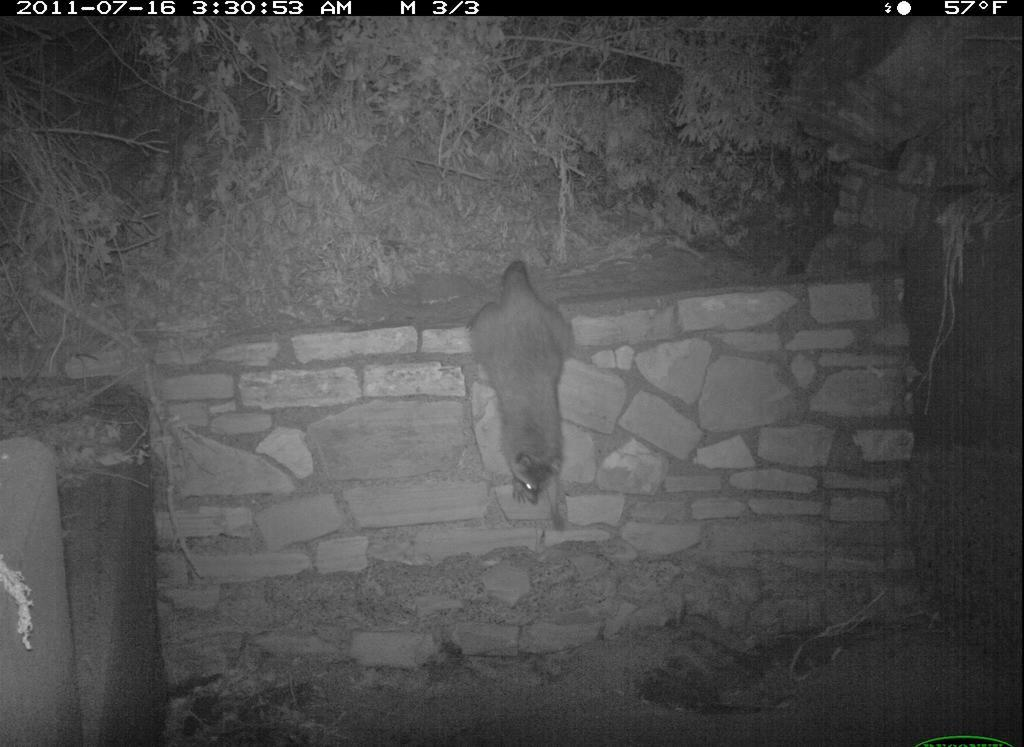raccoon: (461, 258, 601, 546)
